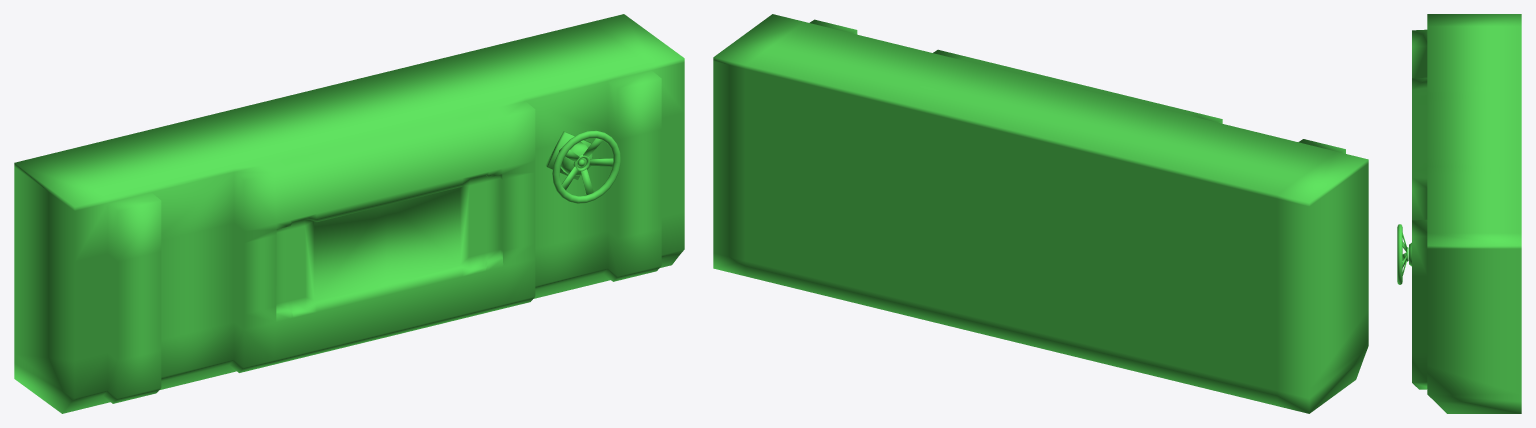
File: PanelSuperior.FBX
3 views of the same model, side by side, from view 1: azimuth 30°, elevation 25°; view 2: azimuth 150°, elevation 25°; view 3: azimuth 270°, elevation 25° (orthographic). The views are drawn at different scales.
Parts seen in each view (by area): view 1: PanelSuperior_LP; view 2: PanelSuperior_LP; view 3: PanelSuperior_LP.
Boxes of the visible parts, x1,y1,x2,y2 form: PanelSuperior_LP: [14, 14, 684, 413]; PanelSuperior_LP: [713, 14, 1368, 413]; PanelSuperior_LP: [1397, 14, 1521, 413].
Size of the model in its own units: 2.47 by 0.8362 by 0.5587.
